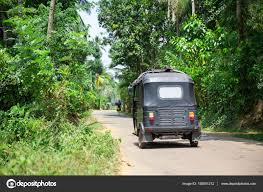tuk tuk: (128, 70, 202, 150)
